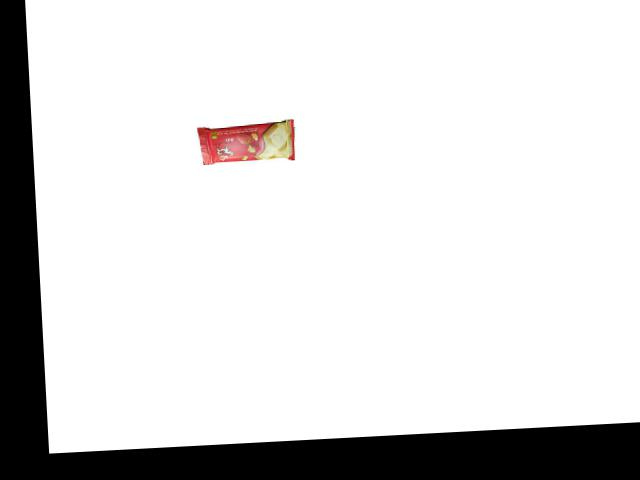chocolate: (190, 113, 296, 168)
